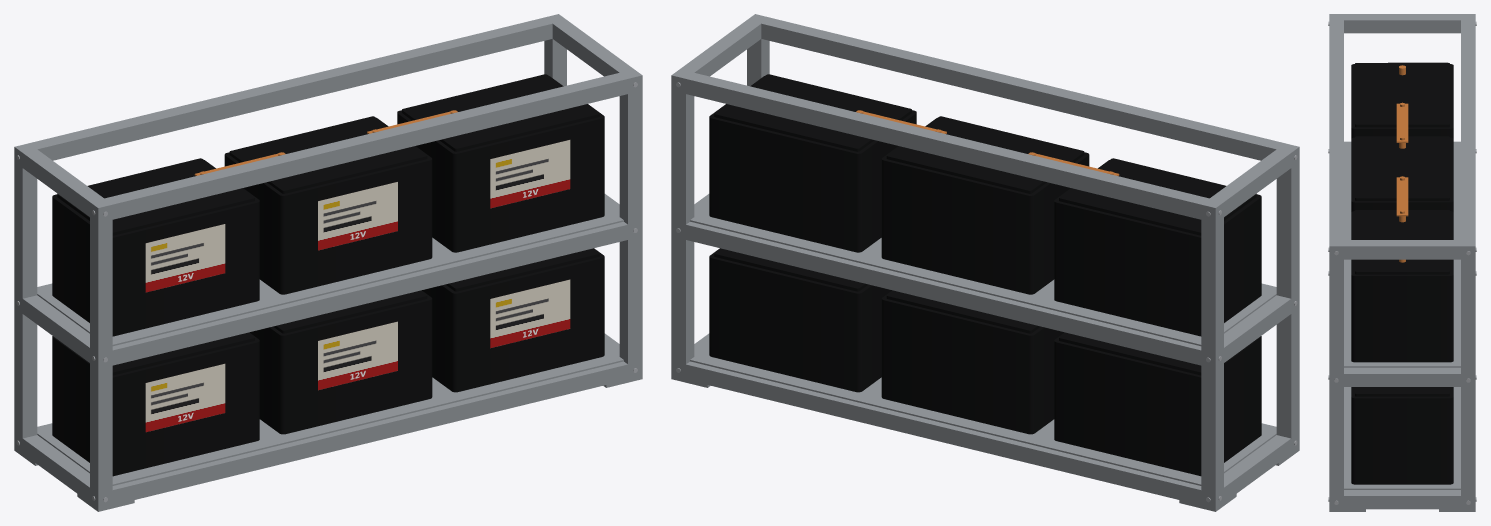
The model's file is battery-rack.glb.
3 renders of one model, left to right at view 1: azimuth 30°, elevation 25°; view 2: azimuth 150°, elevation 25°; view 3: azimuth 270°, elevation 25°, orthographic. The views are drawn at different scales.
Visible parts, largest first — view 1: case.003, case, case.004, case.005, case.001, case.002, Geom.037, Geom.036, Geom.027, Geom.018, Geom.031, Geom.033 (+20 smaller); view 2: case.003, case, case.004, case.005, case.001, case.002, Geom.036, Geom.037, Geom.025, Geom.016, Geom.030, Geom.032 (+14 smaller); view 3: case.005, case.002, top_plate.003, top_plate.004, top_plate.005, Geom.032, Geom.033, Geom.035, Geom.036, Geom.037, Geom.020, Geom.029 (+9 smaller).
Part boxes in pixels (bbox=[...]): case.003: bbox=[52, 160, 259, 336]; case: bbox=[52, 332, 259, 476]; case.004: bbox=[224, 118, 432, 294]; case.005: bbox=[397, 76, 604, 252]; case.001: bbox=[250, 290, 432, 434]; case.002: bbox=[422, 248, 604, 392]; Geom.037: bbox=[104, 73, 627, 219]; Geom.036: bbox=[29, 17, 552, 160]; Geom.027: bbox=[112, 221, 627, 365]; Geom.018: bbox=[112, 361, 627, 505]; Geom.031: bbox=[90, 198, 112, 508]; Geom.033: bbox=[619, 69, 642, 379]; case.003: bbox=[1054, 160, 1261, 336]; case: bbox=[1054, 332, 1261, 476]; case.004: bbox=[881, 118, 1089, 294]; case.005: bbox=[709, 76, 916, 252]; case.001: bbox=[881, 290, 1064, 434]; case.002: bbox=[709, 248, 891, 392]; Geom.036: bbox=[686, 73, 1209, 219]; Geom.037: bbox=[761, 17, 1284, 160]; Geom.025: bbox=[686, 221, 1201, 365]; Geom.016: bbox=[686, 361, 1201, 505]; Geom.030: bbox=[1201, 198, 1223, 508]; Geom.032: bbox=[671, 69, 694, 379]; case.005: bbox=[1351, 211, 1453, 362]; case.002: bbox=[1351, 387, 1453, 484]; top_plate.003: bbox=[1355, 62, 1449, 127]; top_plate.004: bbox=[1355, 136, 1449, 200]; top_plate.005: bbox=[1355, 210, 1449, 274]; Geom.032: bbox=[1461, 240, 1475, 509]; Geom.033: bbox=[1329, 240, 1343, 509]; Geom.035: bbox=[1344, 146, 1460, 367]; Geom.036: bbox=[1461, 20, 1475, 239]; Geom.037: bbox=[1329, 20, 1343, 239]; Geom.020: bbox=[1344, 490, 1460, 509]; Geom.029: bbox=[1344, 367, 1460, 386].
Bounding box in the file's own units: 1.5 × 0.8 × 0.404.
10 materials, 6 textured.
